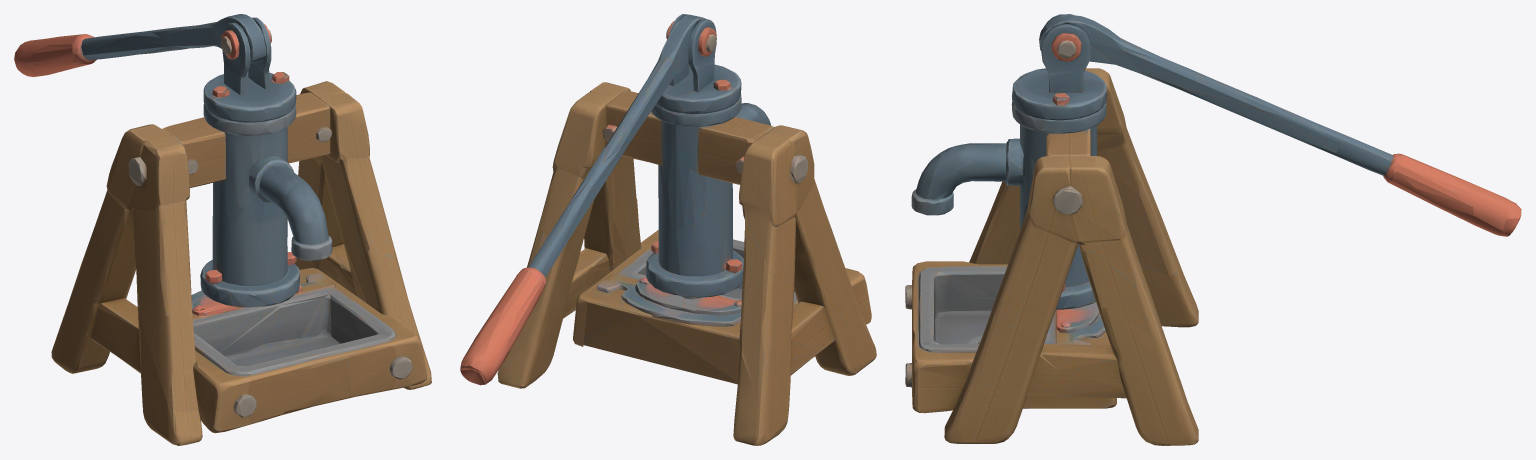
File: waterPump.glb
The picture shows the model from 3 angles, left to right: view 1: azimuth 30°, elevation 25°; view 2: azimuth 150°, elevation 25°; view 3: azimuth 270°, elevation 25°; orthographic projection. The views are drawn at different scales.
Parts seen in each view (by area): view 1: Mesh_0; view 2: Mesh_0; view 3: Mesh_0.
Part boxes in pixels (left/top/right/bottom): Mesh_0: left=14, top=14, right=431, bottom=445; Mesh_0: left=460, top=14, right=876, bottom=445; Mesh_0: left=905, top=14, right=1521, bottom=445.
Size of the model in its own units: 0.4412 by 0.5516 by 0.85.
Materials: 1 (1 with a texture image).
